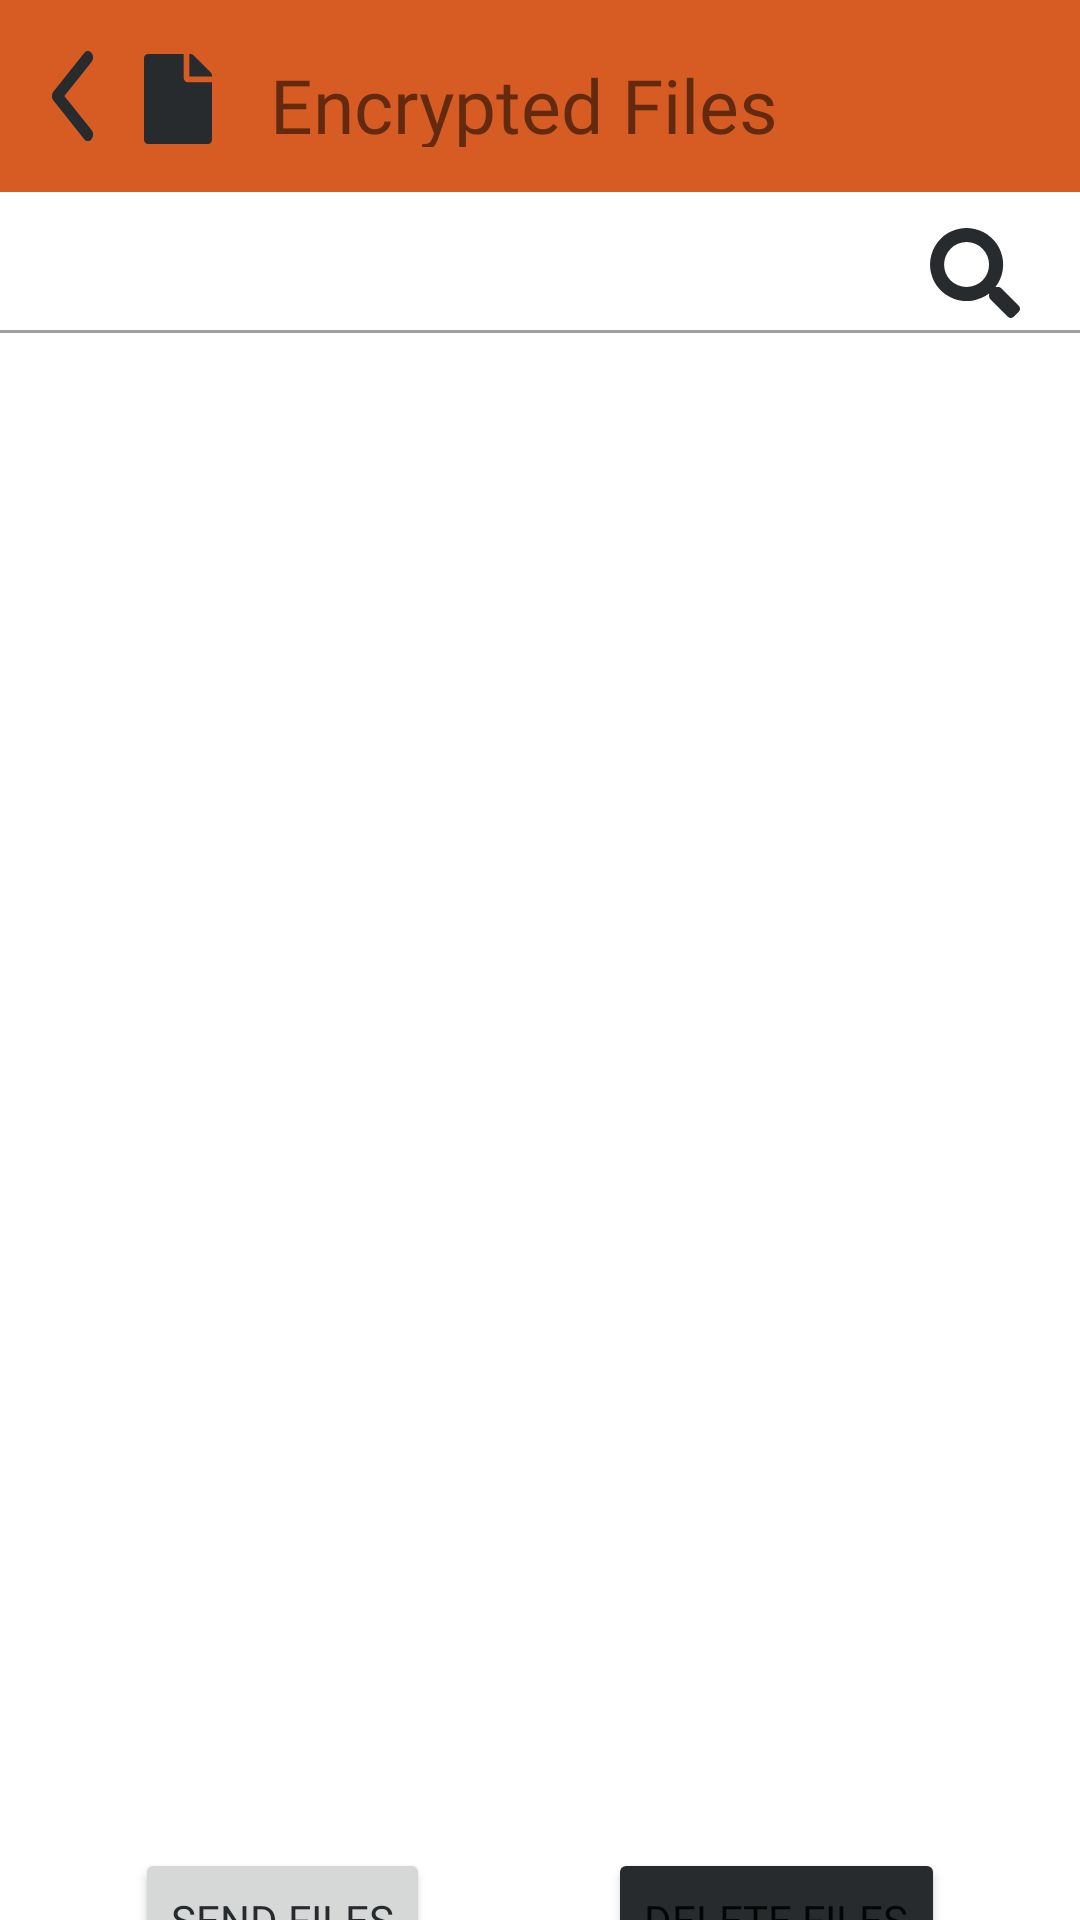

Point at icon controls on the screen. Image size 1080×1920, points as (x,y).
arrow left: (72,96)
search: (975,273)
